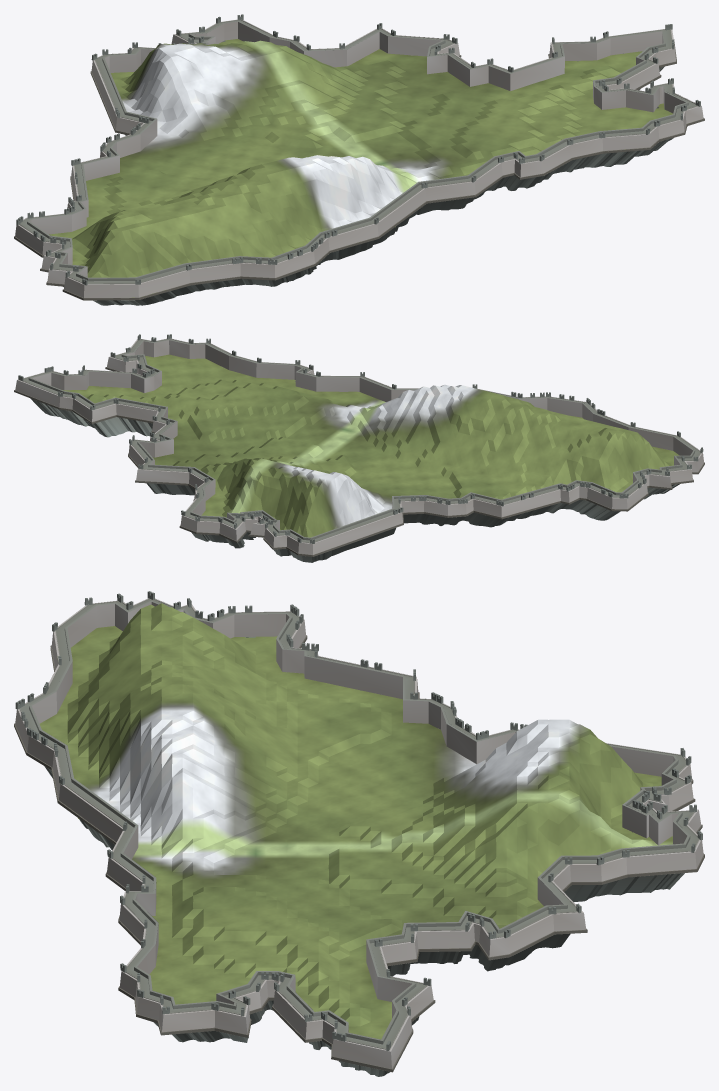
3 views of the same model, one above another, from view 1: azimuth 30°, elevation 25°; view 2: azimuth 150°, elevation 25°; view 3: azimuth 270°, elevation 25° (orthographic). The views are drawn at different scales.
Visible parts, largest first — view 1: ground_636a5212; view 2: ground_636a5212; view 3: ground_636a5212.
Part boxes in pixels (<box>): ground_636a5212: <box>14,14,704,305</box>; ground_636a5212: <box>14,334,704,562</box>; ground_636a5212: <box>14,591,704,1076</box>.
Size of the model in its own units: 156 by 14.43 by 99.18.
Materials: 3 (1 with a texture image).
